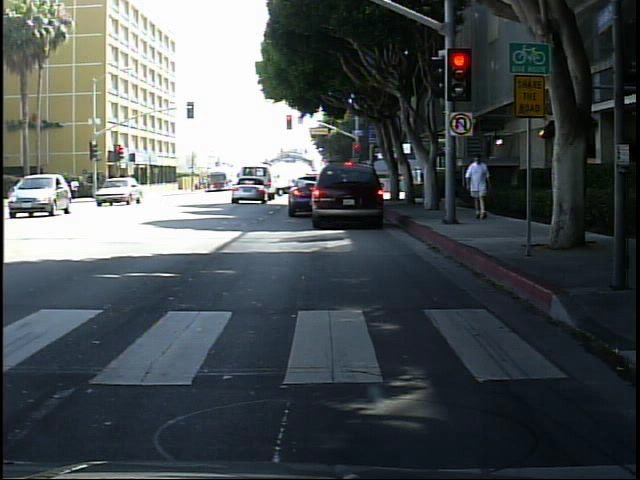person: (461, 151, 494, 221), (70, 173, 84, 199)
